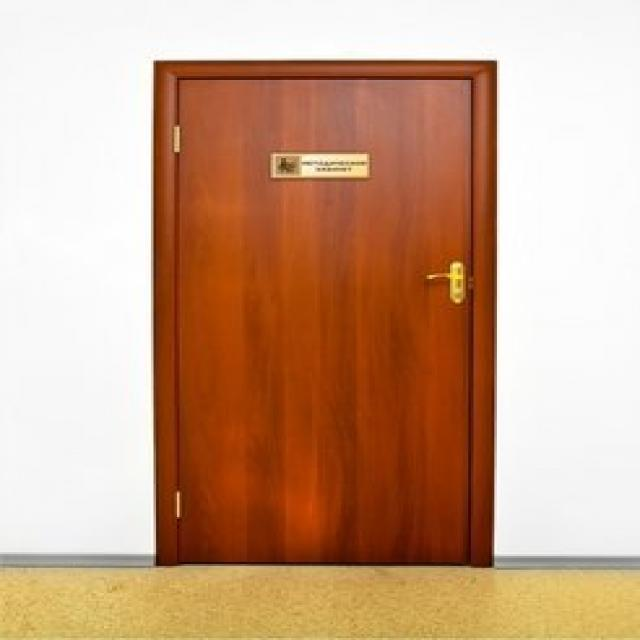close: (163, 65, 499, 569)
